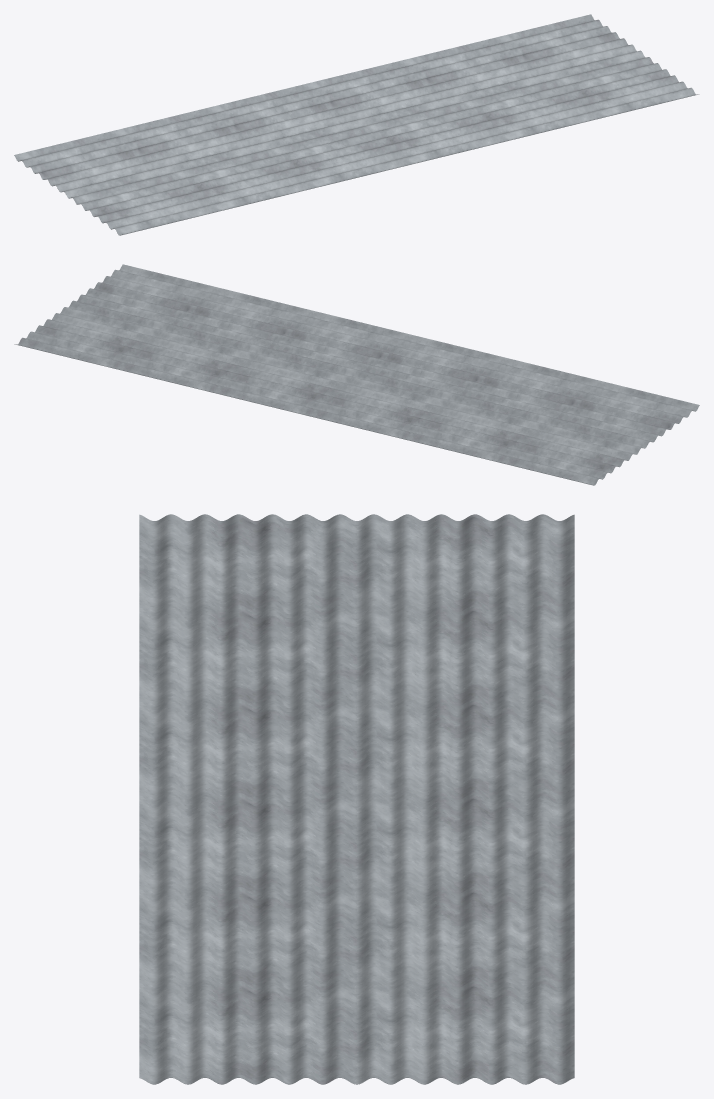
File: COB-MTL-002.glb
3 views of the same model, one above another, from view 1: azimuth 30°, elevation 25°; view 2: azimuth 150°, elevation 25°; view 3: azimuth 270°, elevation 25° (orthographic). The views are drawn at different scales.
Visible parts, largest first — view 1: COB-MTL-002_chapa; view 2: COB-MTL-002_chapa; view 3: COB-MTL-002_chapa.
Part boxes in pixels (x1,y1,x2,y2): COB-MTL-002_chapa: [14, 14, 699, 235]; COB-MTL-002_chapa: [14, 264, 699, 485]; COB-MTL-002_chapa: [139, 514, 574, 1084].
Size of the model in its own units: 3 by 0.0176 by 0.98.
Materials: 1 (1 with a texture image).
